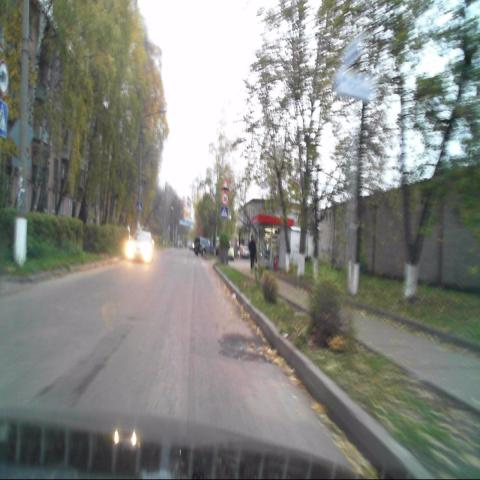1_16: (221, 177, 229, 193)
3_24: (222, 192, 228, 204)
5_19_1: (221, 207, 228, 219)
